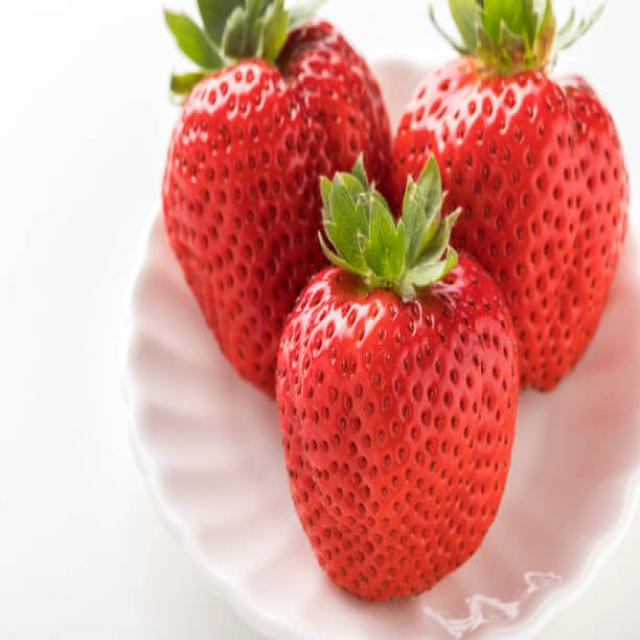Healthy Fruit: (161, 21, 392, 401), (278, 247, 518, 602), (387, 61, 631, 394)
